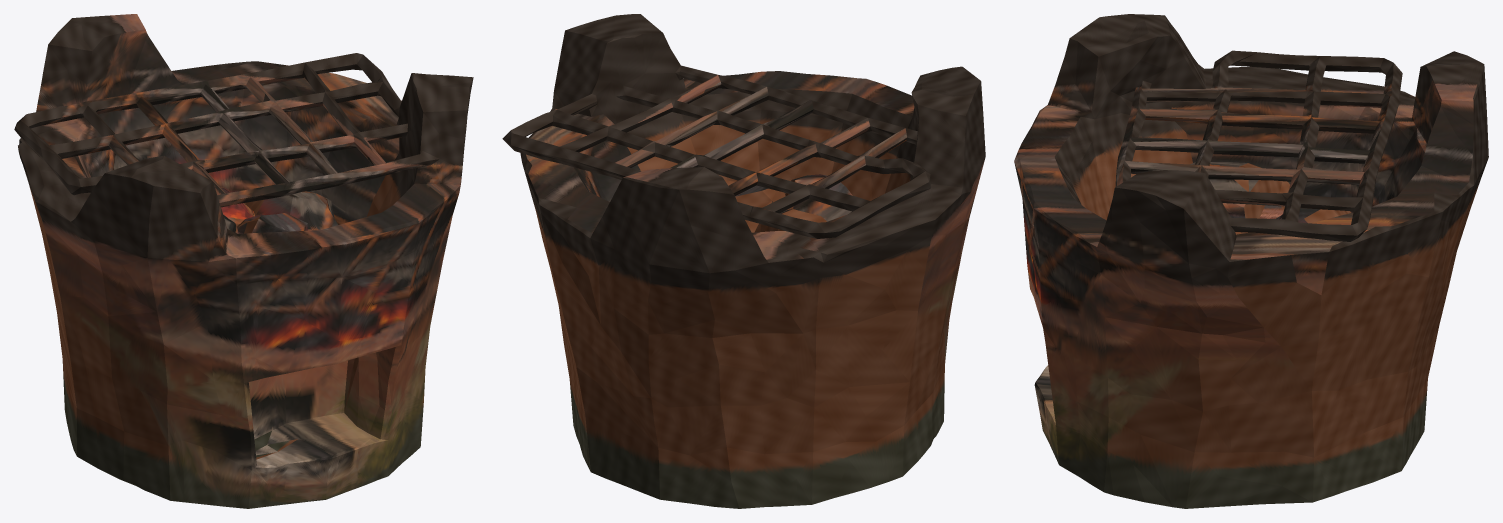
Rendered from charcoal_stove_clay_reduced.glb.
3 views of the same model, side by side, from view 1: azimuth 30°, elevation 25°; view 2: azimuth 150°, elevation 25°; view 3: azimuth 270°, elevation 25° (orthographic). The views are drawn at different scales.
Visible parts, largest first — view 1: CoveredSurface; view 2: CoveredSurface; view 3: CoveredSurface.
Part boxes in pixels (<box>): CoveredSurface: <box>14,14,473,508</box>; CoveredSurface: <box>502,14,985,508</box>; CoveredSurface: <box>1014,14,1488,508</box>.
Bounding box in the file's own units: 1.98 × 1.6 × 1.98.
Materials: 1 (1 with a texture image).
